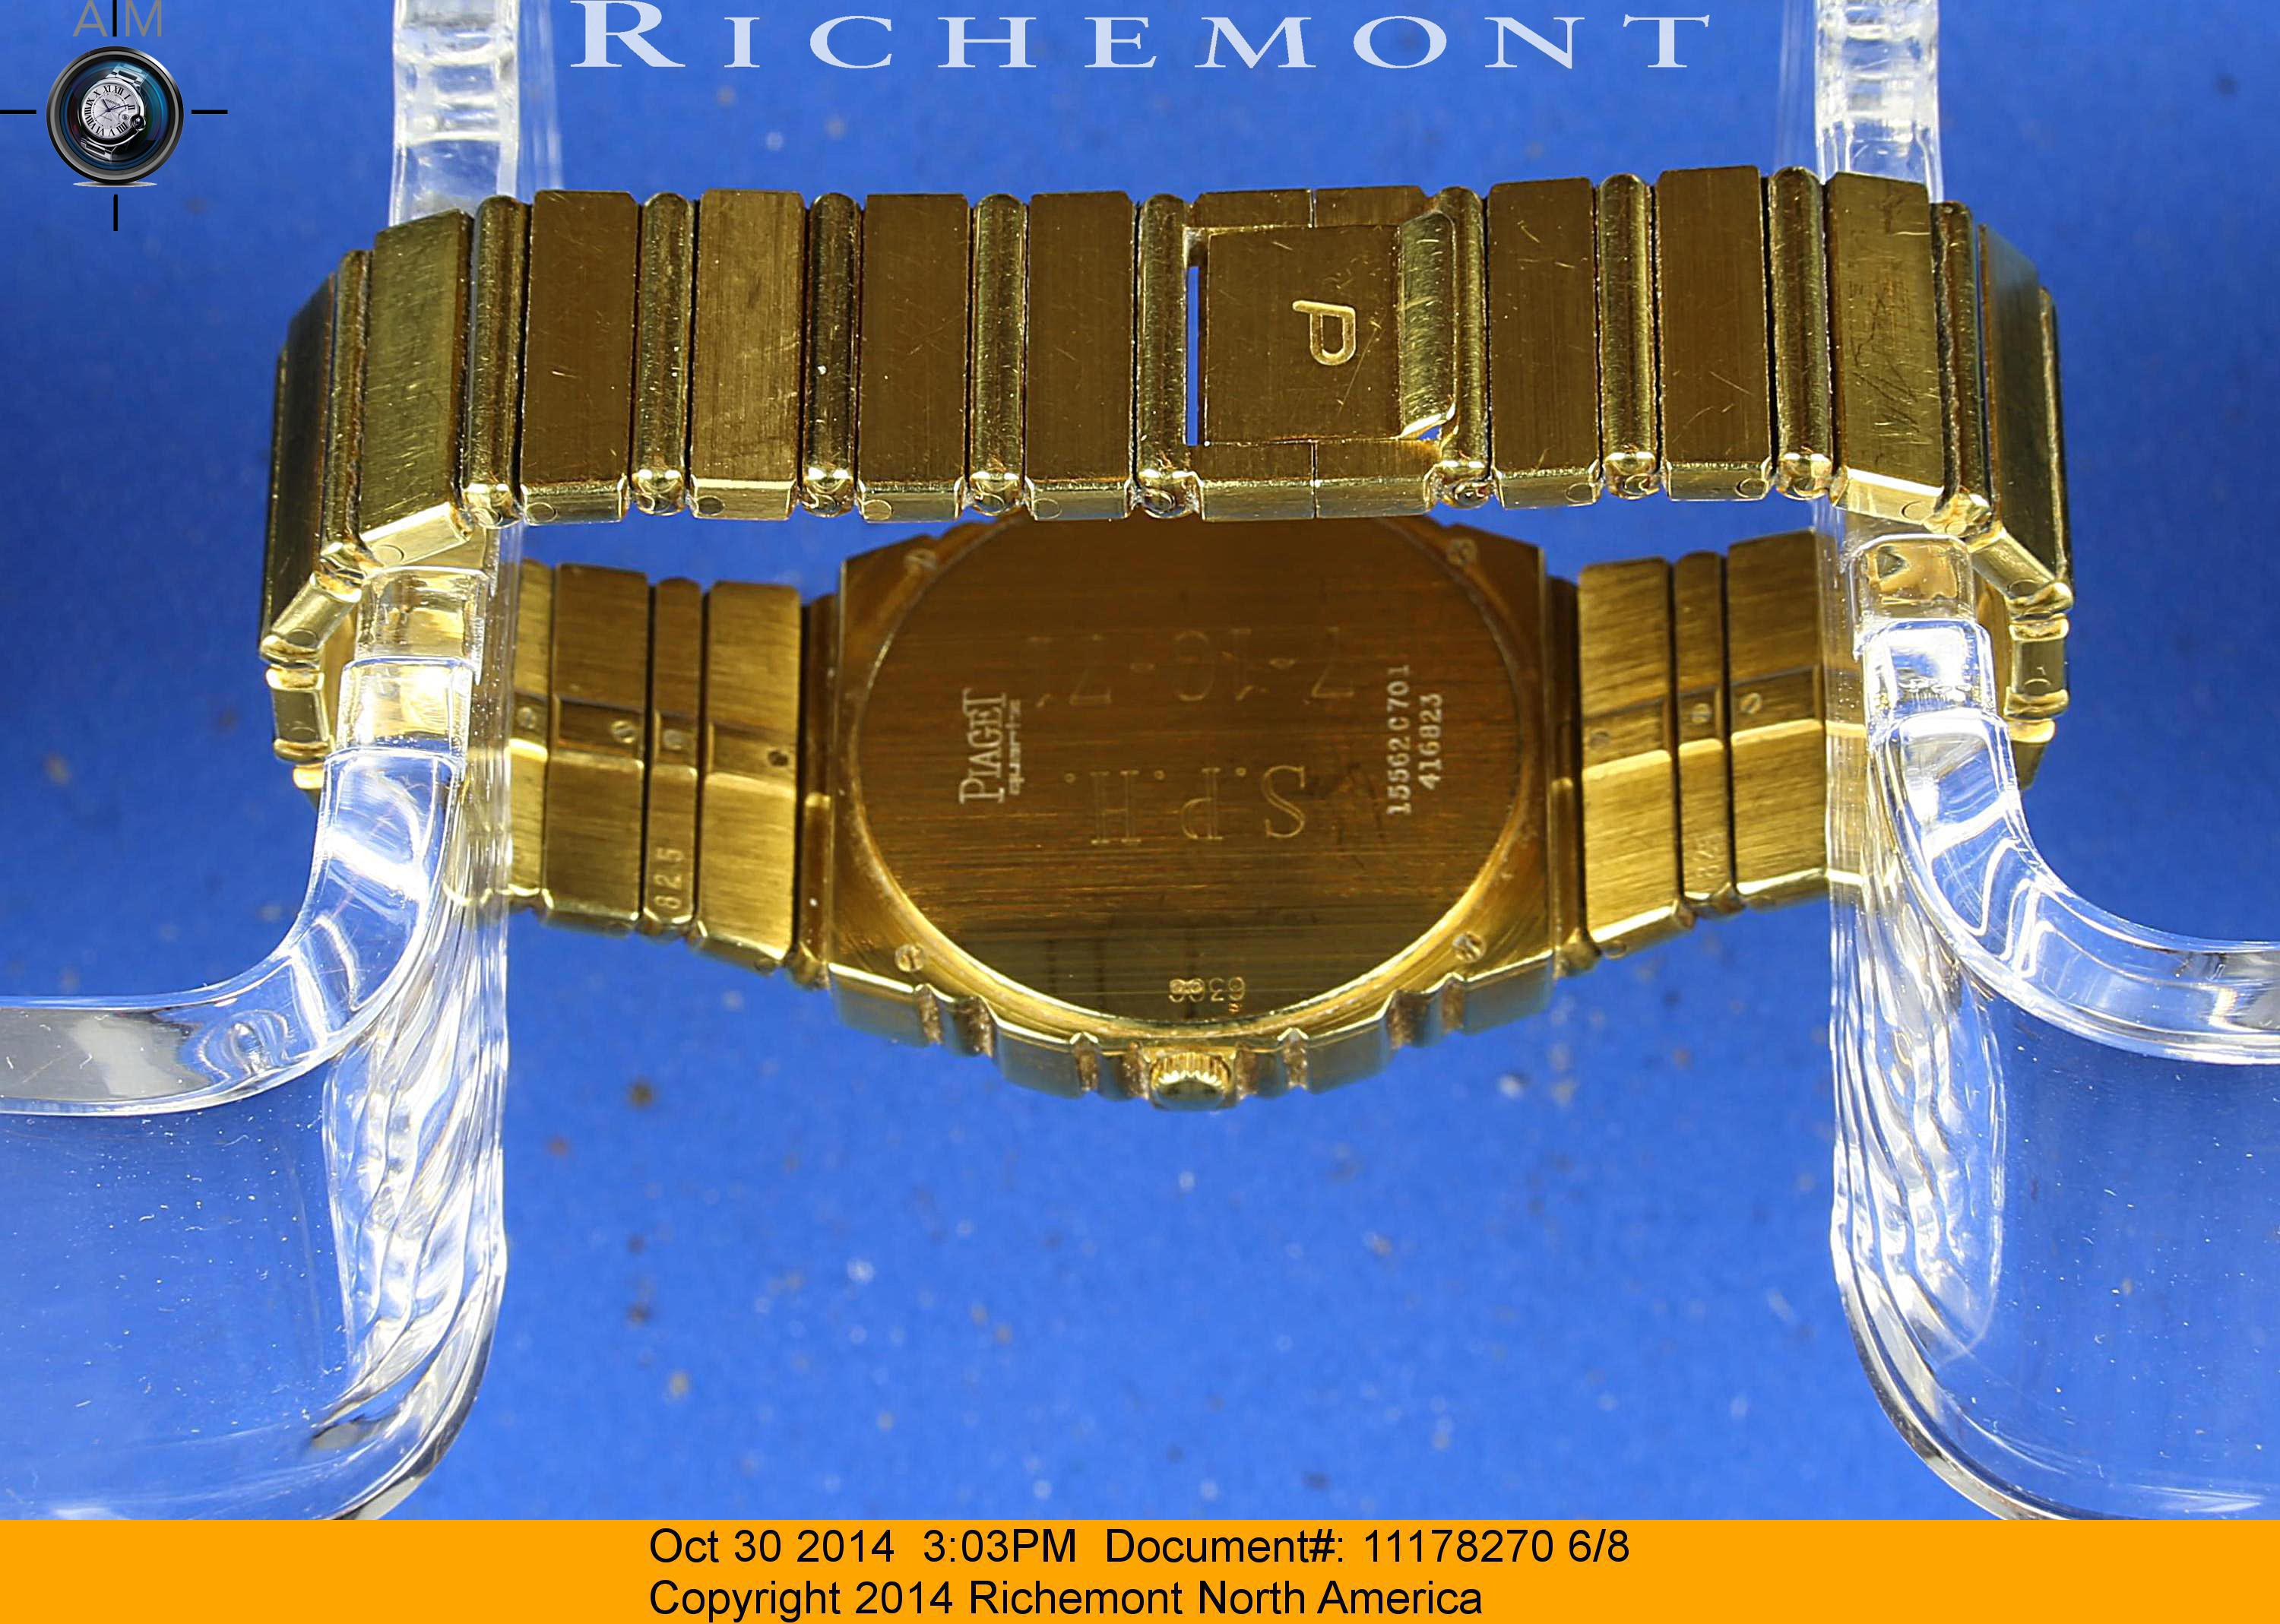Watch BackCase: (826, 527, 1589, 1128)
